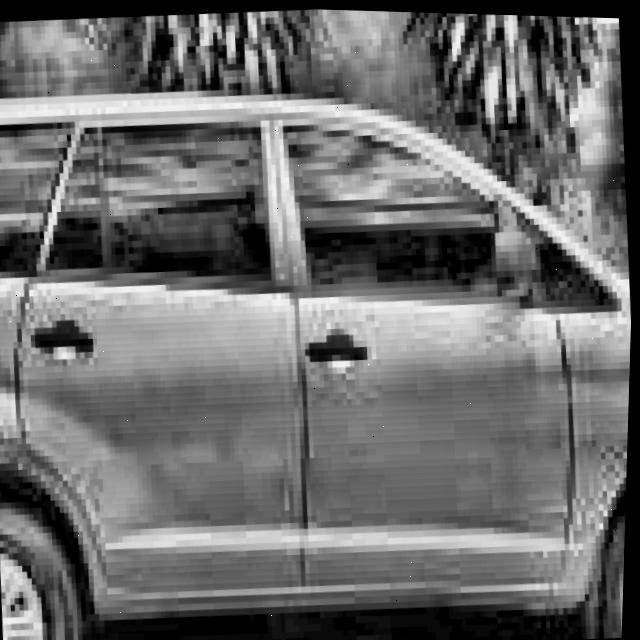light_vehicle: (0, 55, 639, 640)
